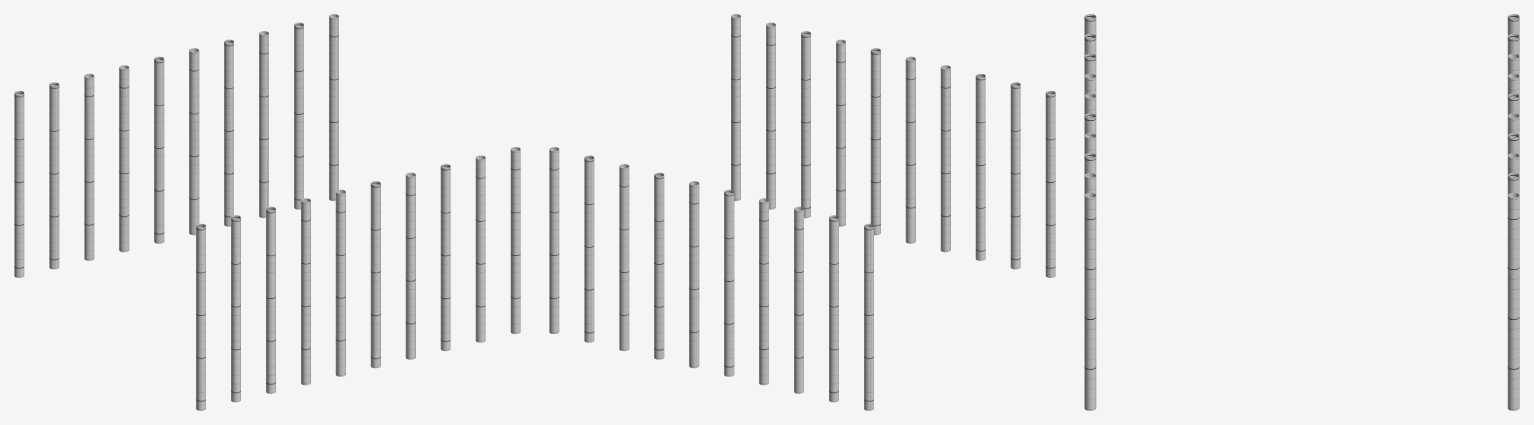
The model's file is Tile_Stairs_Support_4x4x2.fbx.
3 renders of one model, left to right at view 1: azimuth 30°, elevation 25°; view 2: azimuth 150°, elevation 25°; view 3: azimuth 270°, elevation 25°, orthographic. The views are drawn at different scales.
Visible parts, largest first — view 1: Tile_Stairs_Support_4x4x2; view 2: Tile_Stairs_Support_4x4x2; view 3: Tile_Stairs_Support_4x4x2.
Part boxes in pixels (x1,y1,x2,y2): Tile_Stairs_Support_4x4x2: (14, 14, 520, 410); Tile_Stairs_Support_4x4x2: (549, 14, 1055, 410); Tile_Stairs_Support_4x4x2: (1084, 14, 1519, 410).
Bounding box in the file's own units: 370 × 200 × 370.
